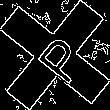P_NW: (24, 25, 86, 85)
